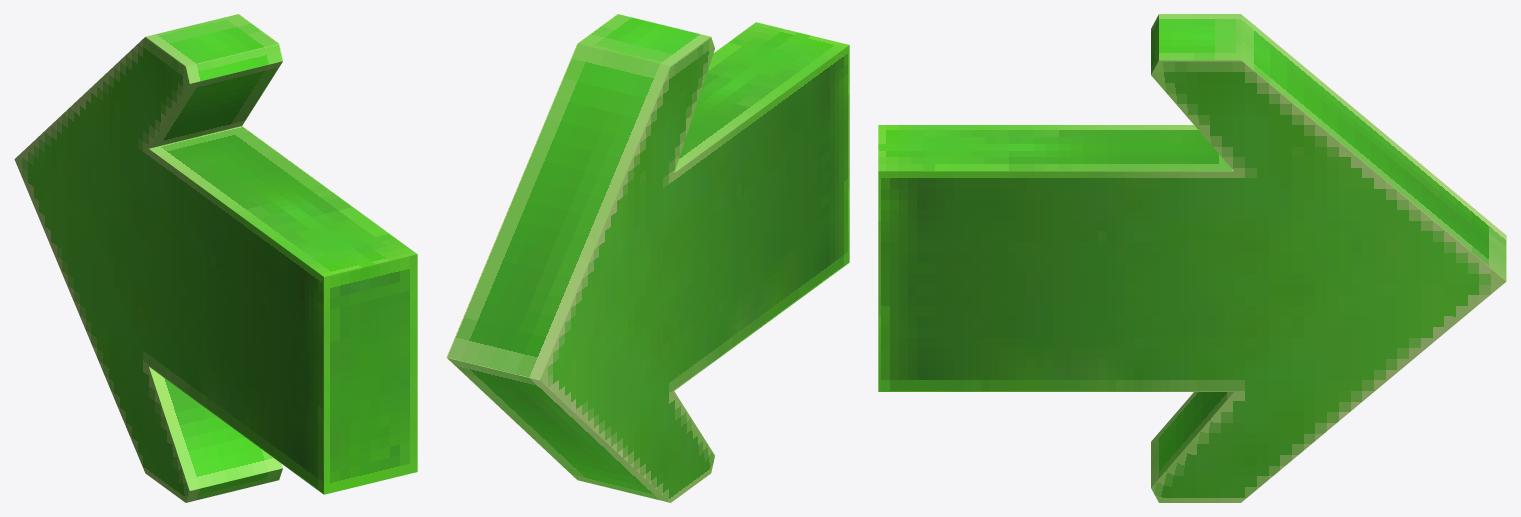
Rendered from Arrows_5b0471d4__Arrows_0132740c_c1f257.obj.
3 renders of one model, left to right at view 1: azimuth 30°, elevation 25°; view 2: azimuth 150°, elevation 25°; view 3: azimuth 270°, elevation 25°, orthographic.
Size of the model in its own units: 0.237 by 1.06 by 1.36.
1 material, 1 textured.
